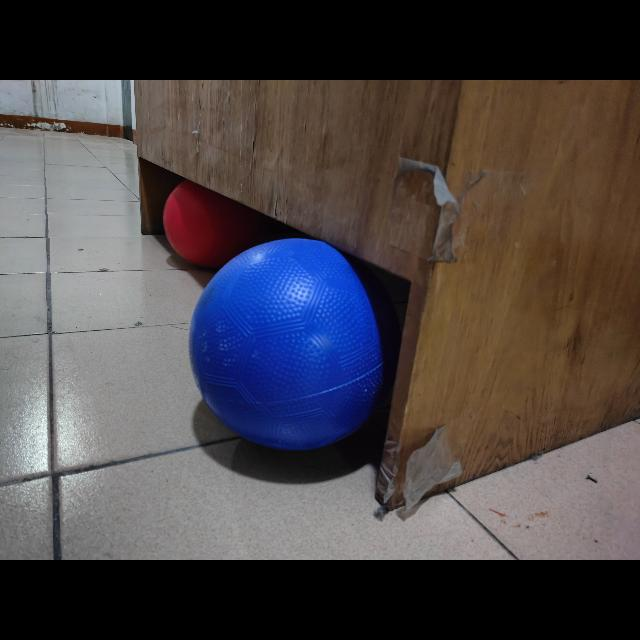B: (186, 235, 404, 451)
R: (161, 168, 269, 274)
